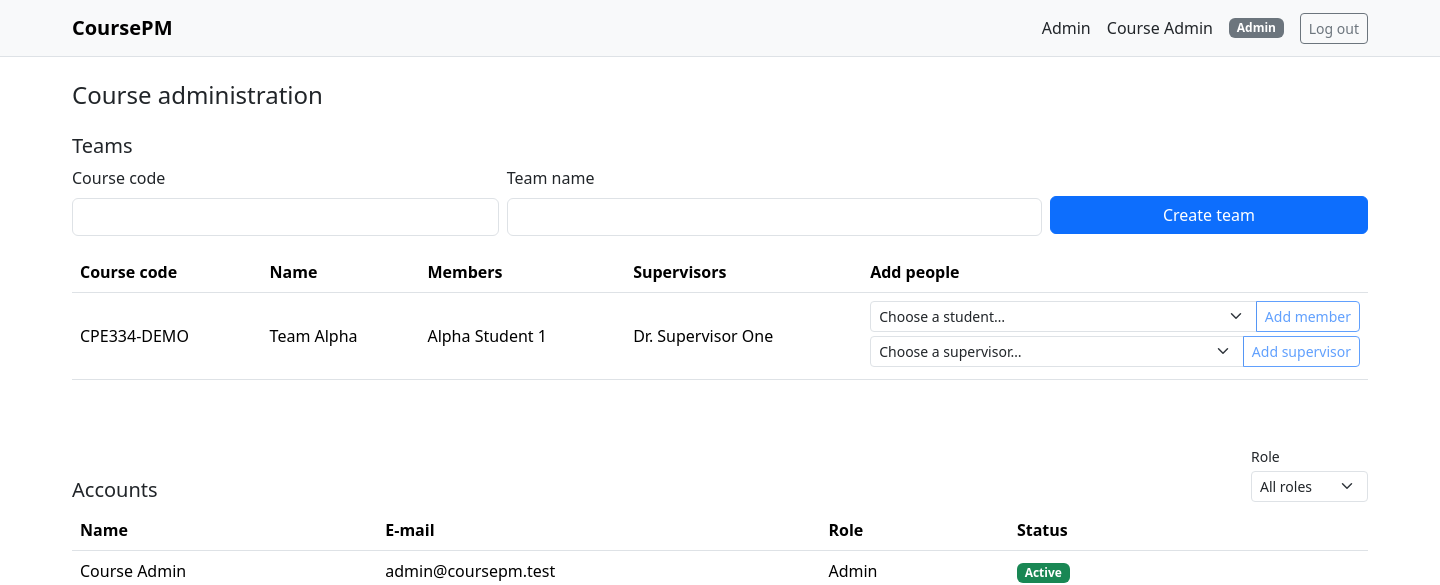
TEST-UI-09 (AC-09-11): Teams section › New team: field errors under the inputs, values kept; 409 in the alert
In the field labelled "Course code": x=285, y=217 [72, 198, 499, 236], type "C"
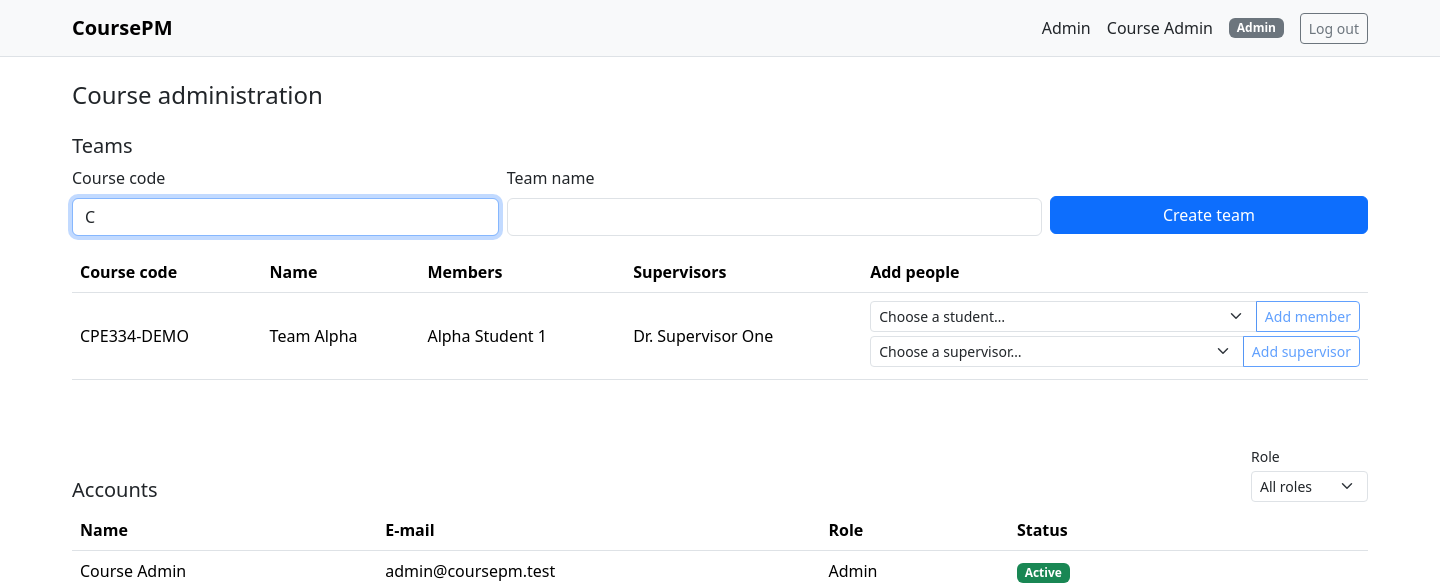
In the field labelled "Team name": x=774, y=217 [507, 198, 1042, 236], type "T"
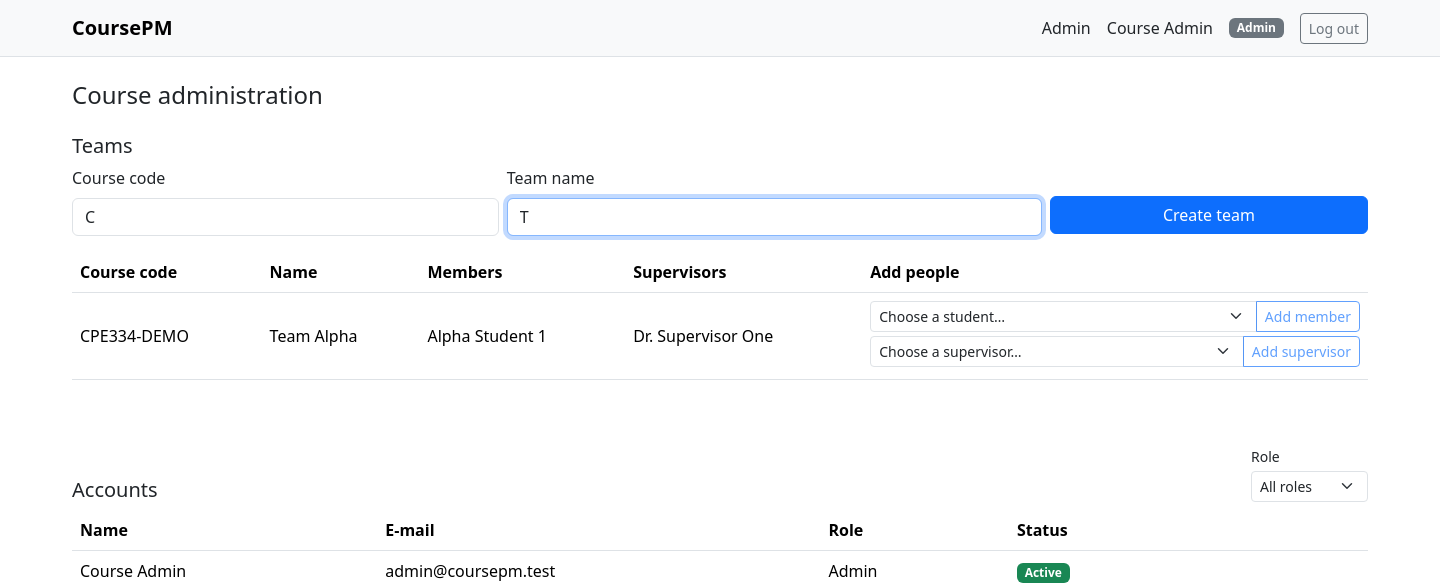
Click the button "Create team": x=1209, y=215 [1050, 196, 1368, 234]
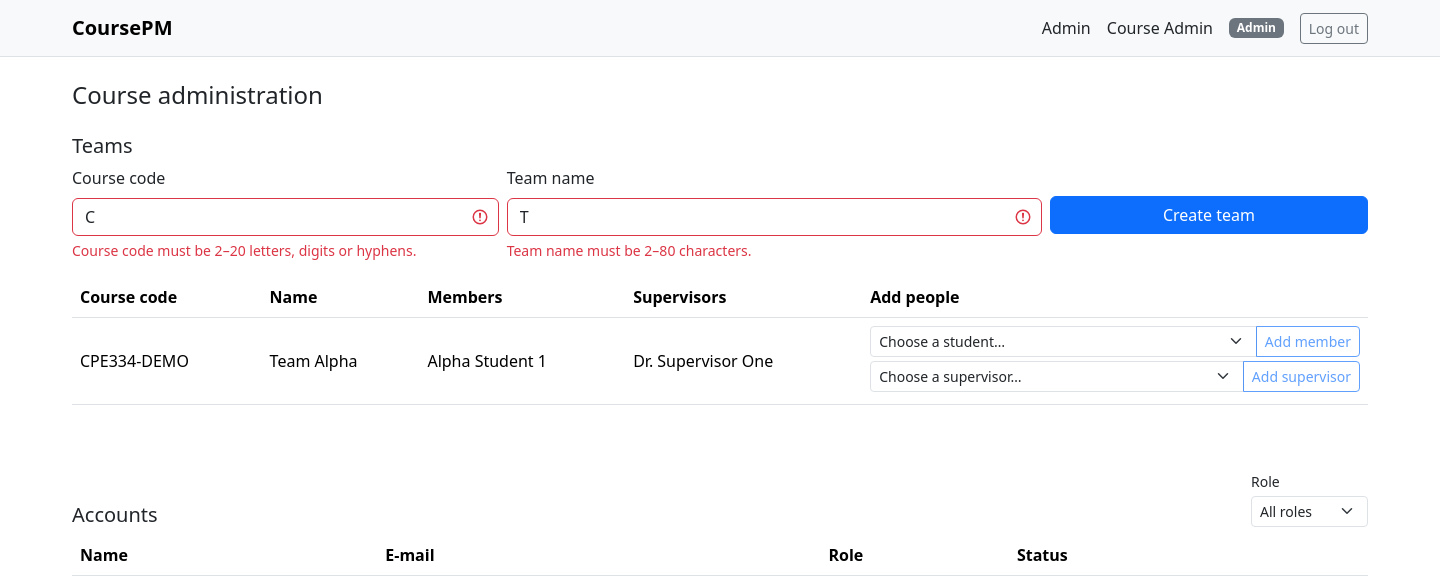
Expected: the text "Course code must be 2–20 letters, digits or hyphens." is shown, [72, 241, 416, 260]
Expected: the text "Team name must be 2–80 characters." is shown, [507, 241, 752, 260]
Click the button "Create team": x=1209, y=215 [1050, 196, 1368, 234]
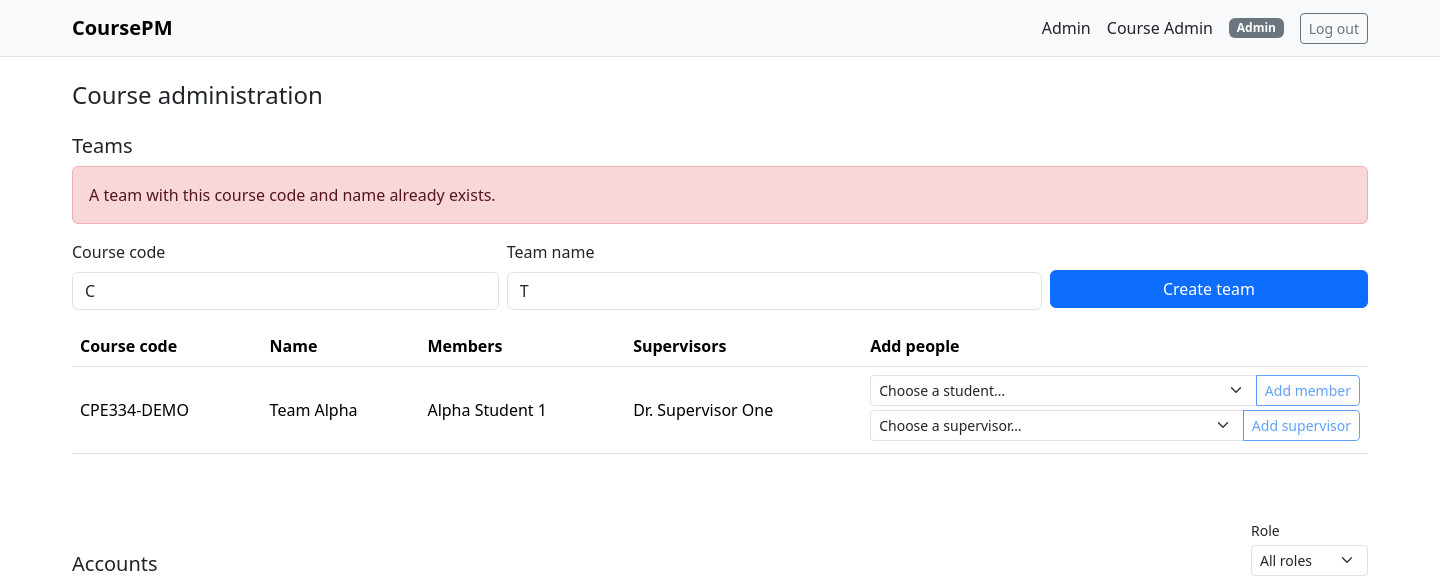
Expected: the message reads "A team with this course code and name already exists.", [89, 184, 496, 206]
